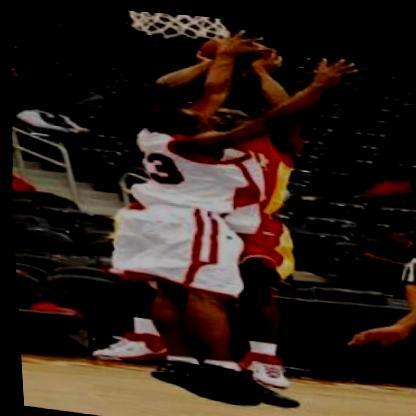basketball: (197, 23, 284, 77)
